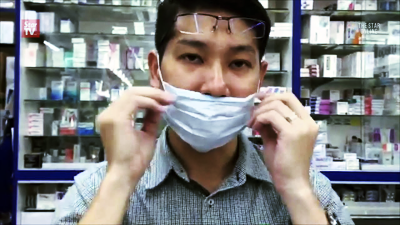mask_weared_incorrect: (160, 37, 263, 154)
